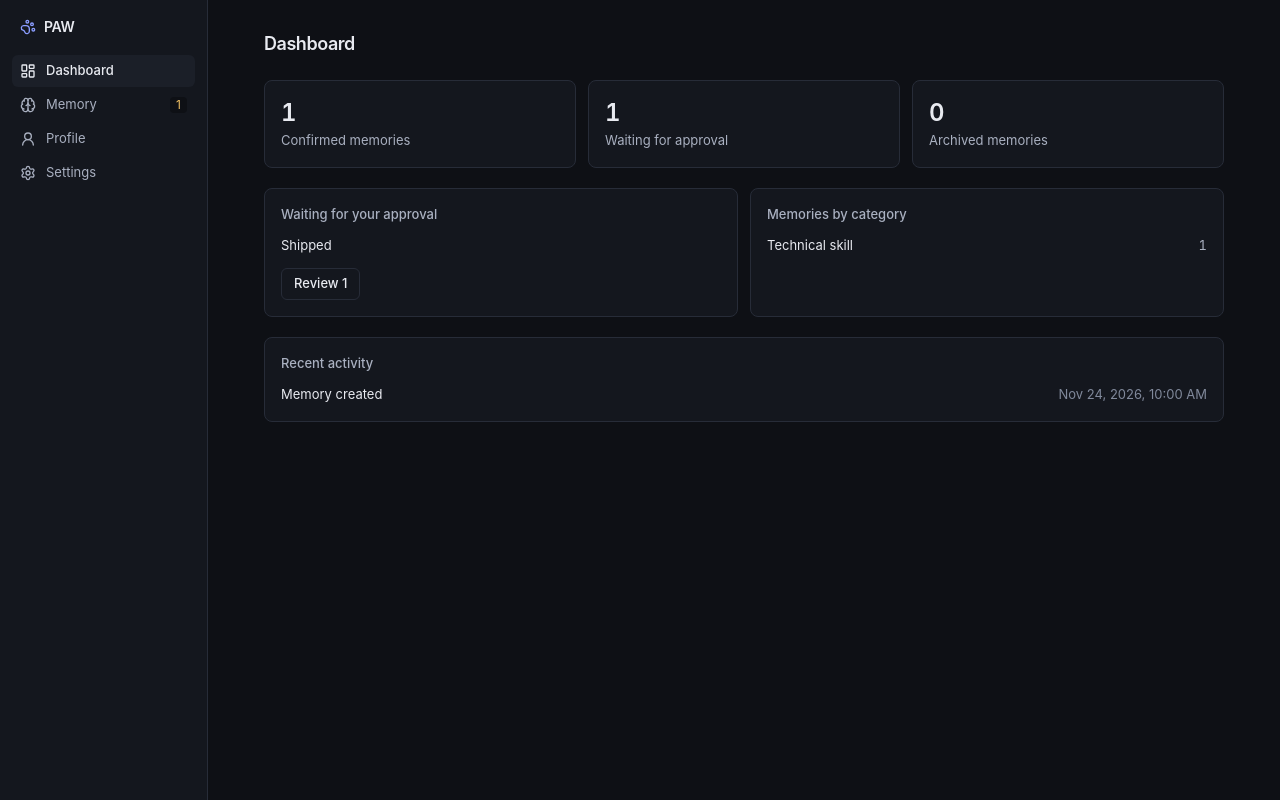
it: memory › creates a memory
Click the button "Memory 1" at (104, 105), box [12,89,195,121]
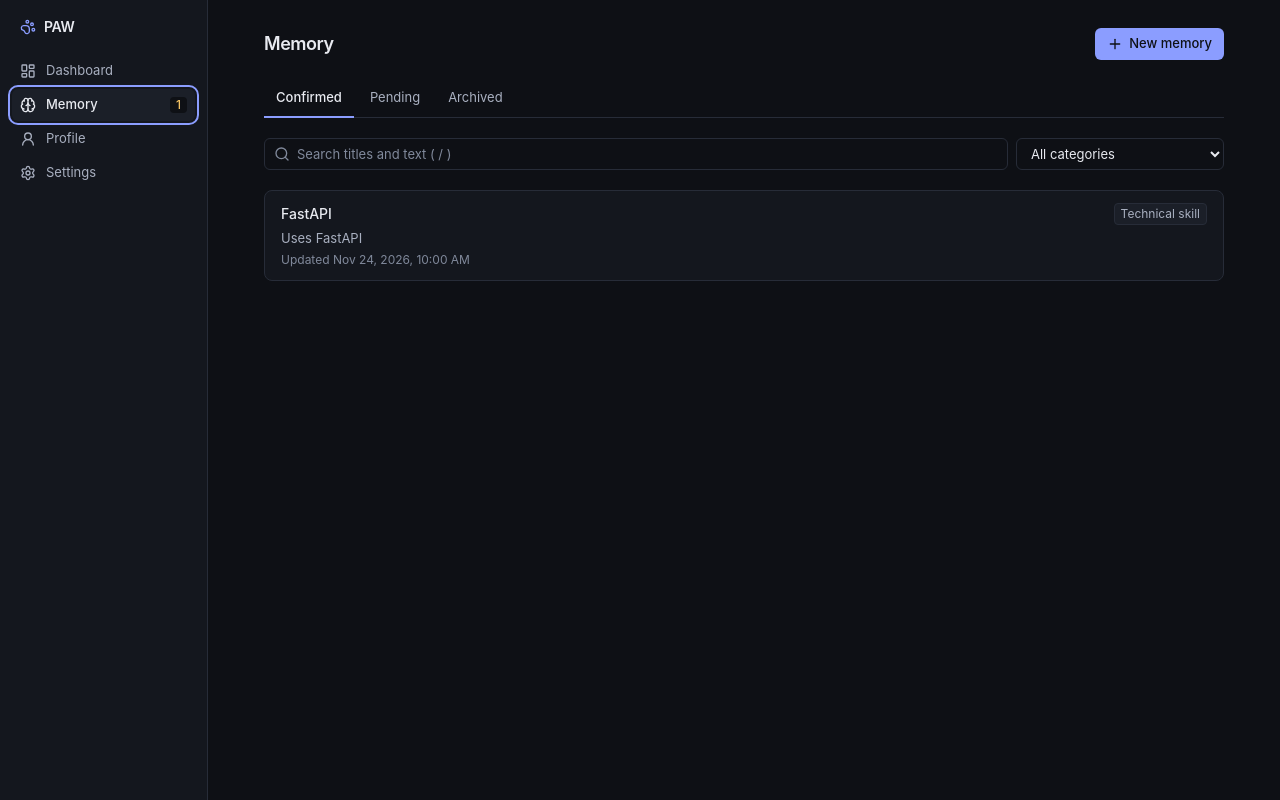
Click the button "New memory" at (1160, 44), box [1095,28,1224,60]
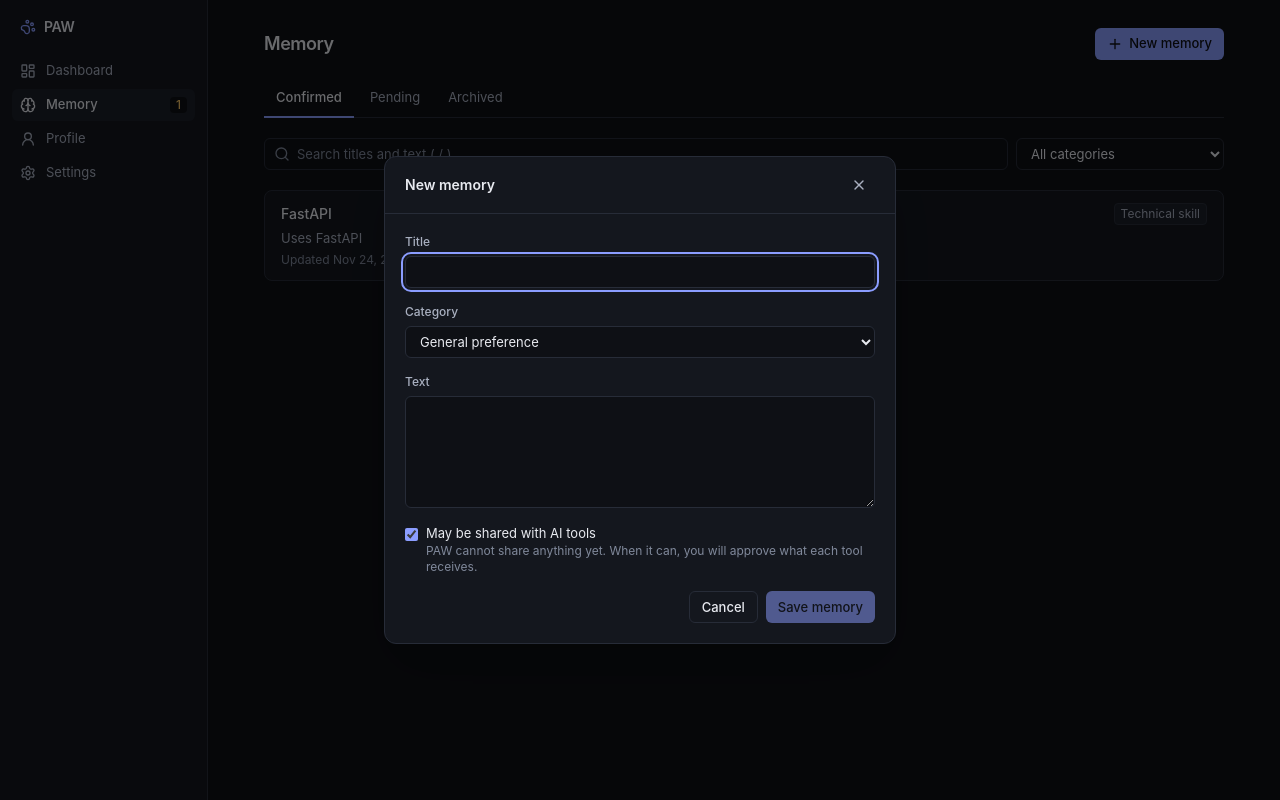
Expected: the button "Save memory" is disabled, [766,591,875,623]
Type "T" into the field labelled "Title" at (640, 272), box [405,256,875,288]
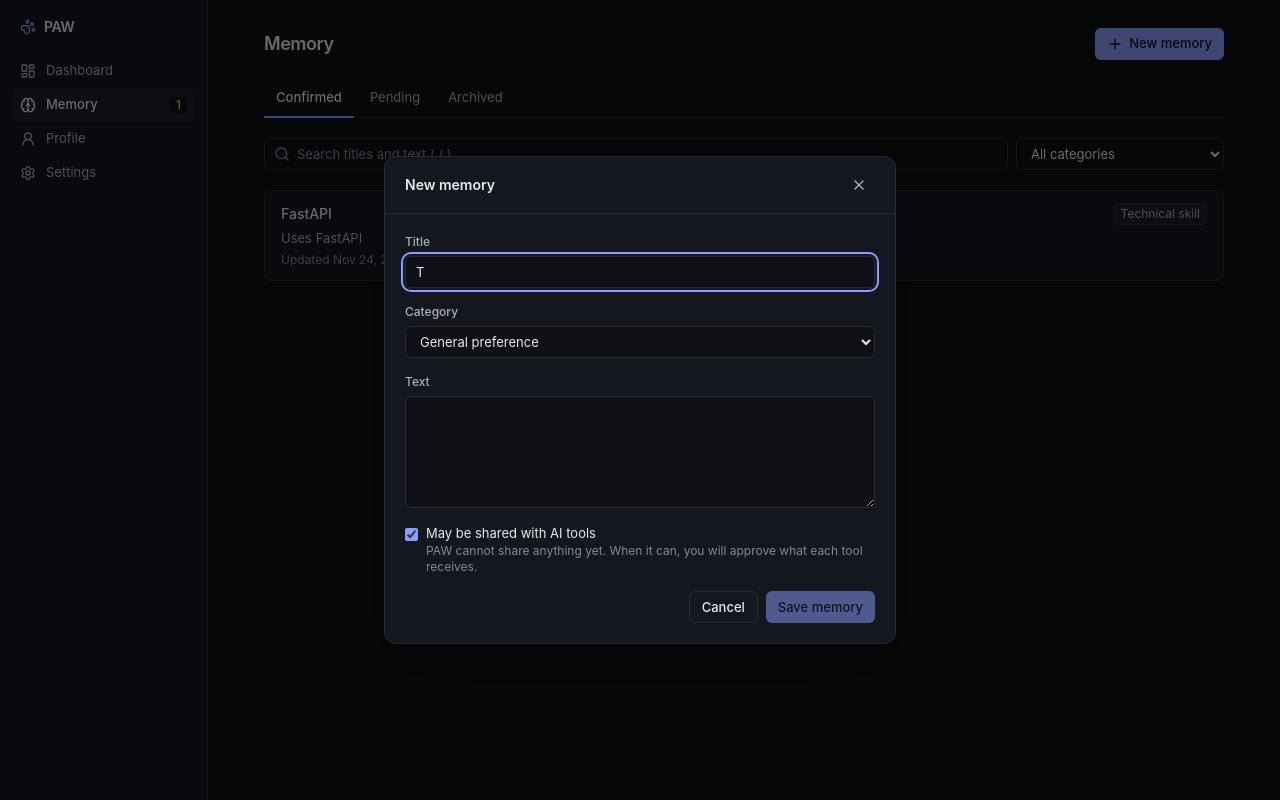
Type "Body" into the text box labelled "Text" at (640, 452), box [405,396,875,508]
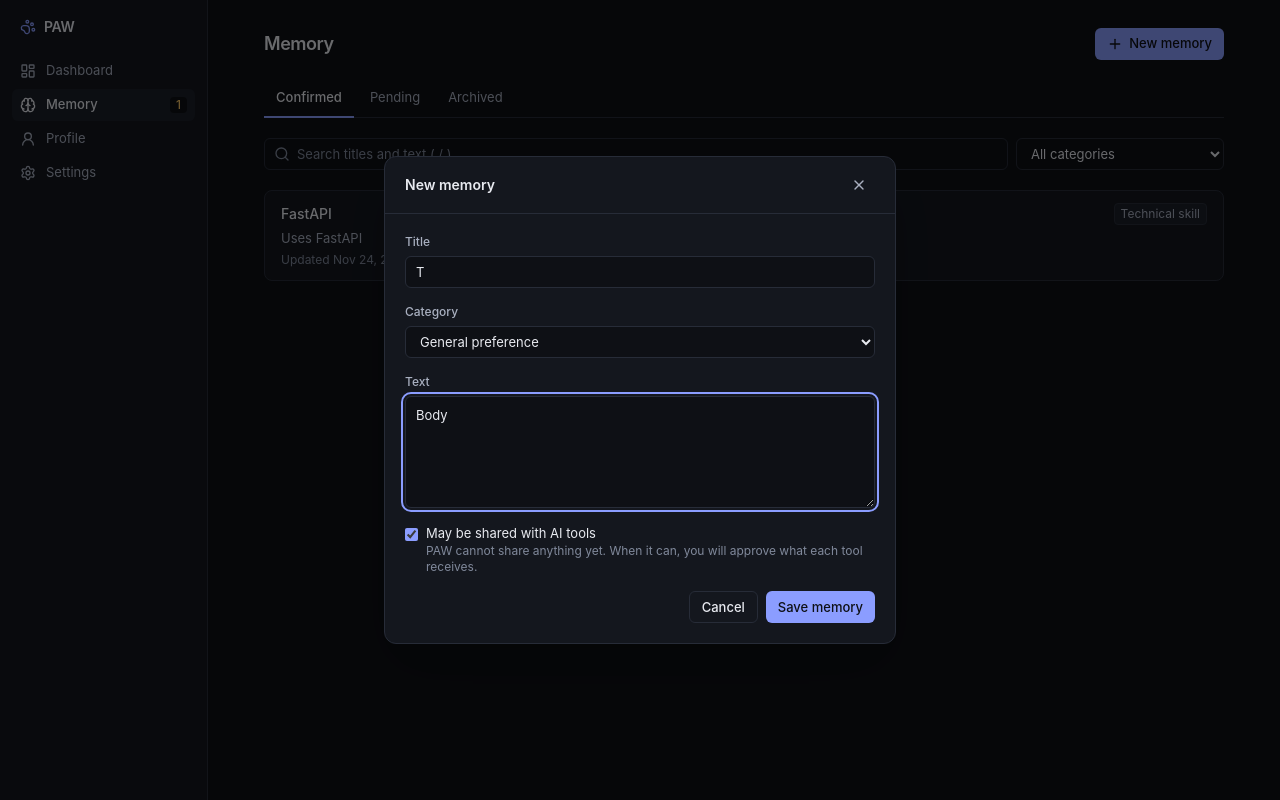
Click the checkbox labelled "May be shared" at (412, 534), box [405,528,418,541]
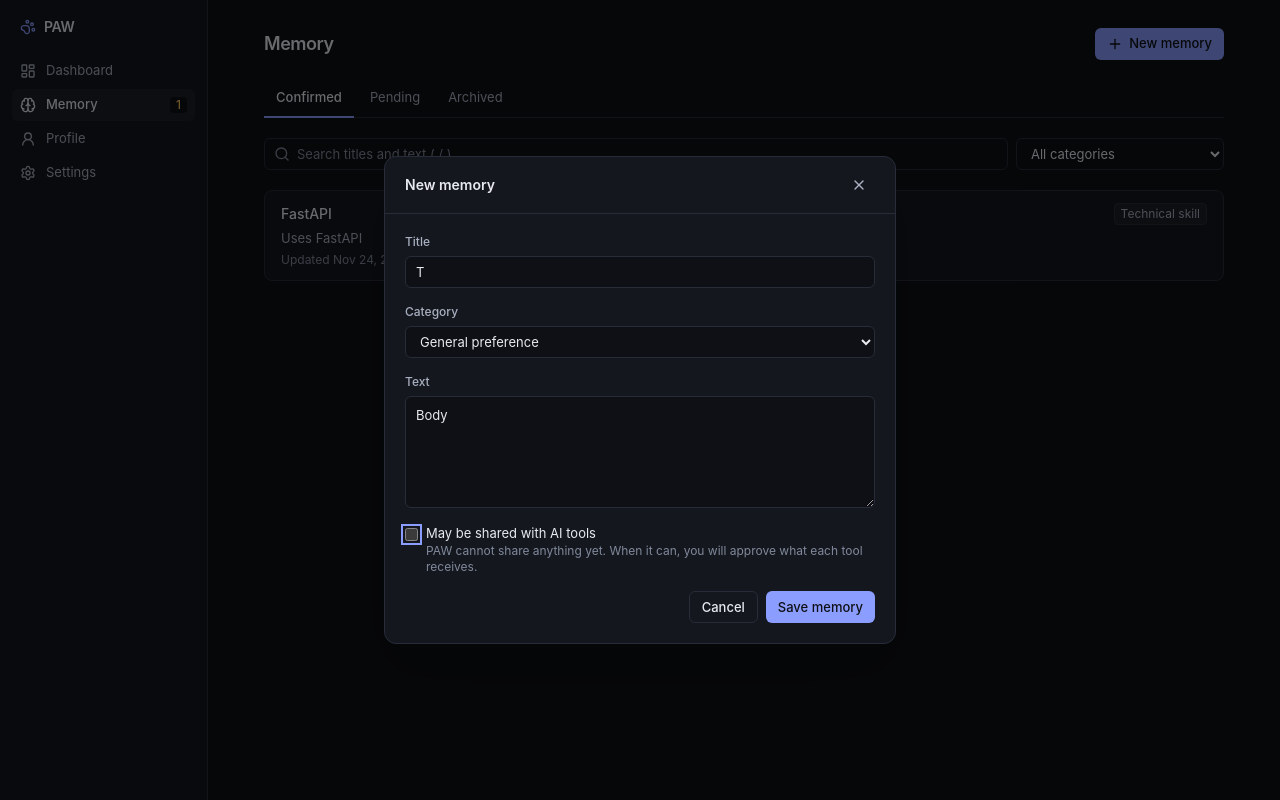
Click the button "Save memory" at (820, 607), box [766,591,875,623]
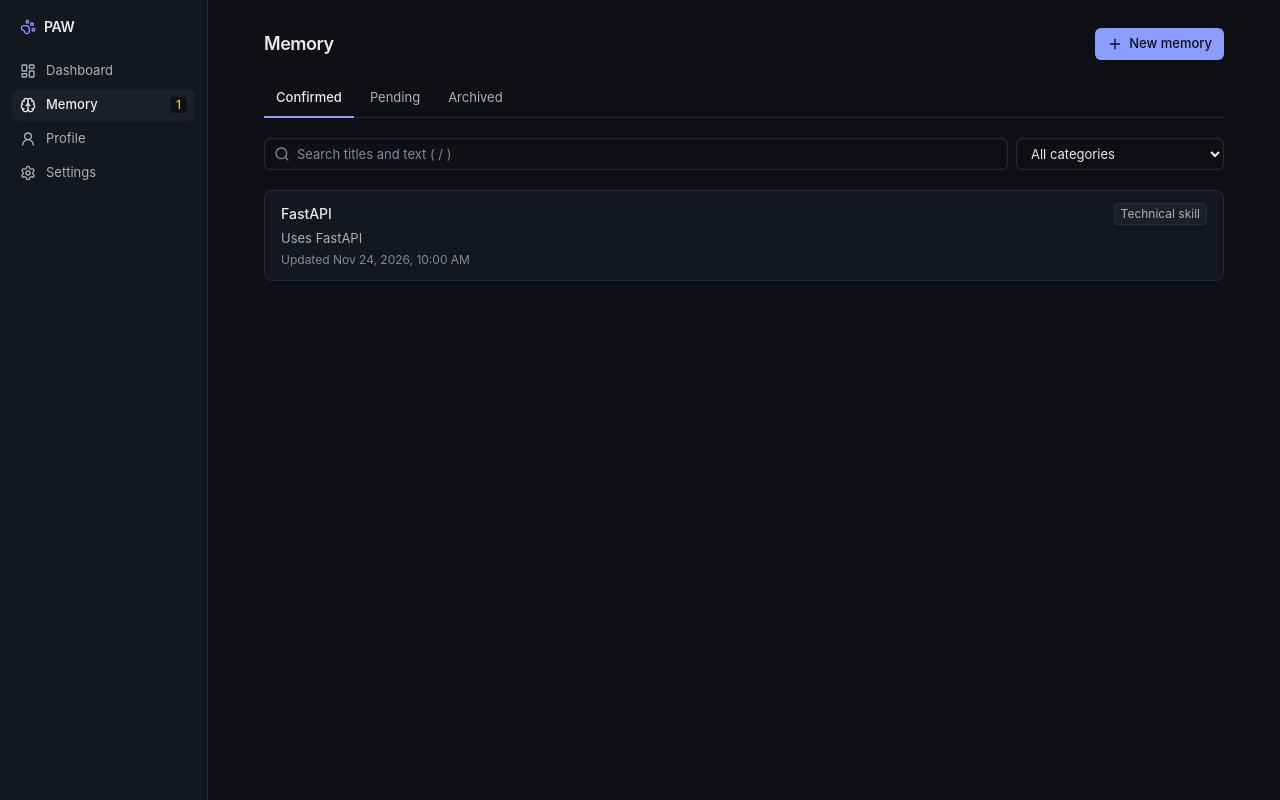
Expected: the dialog is gone
